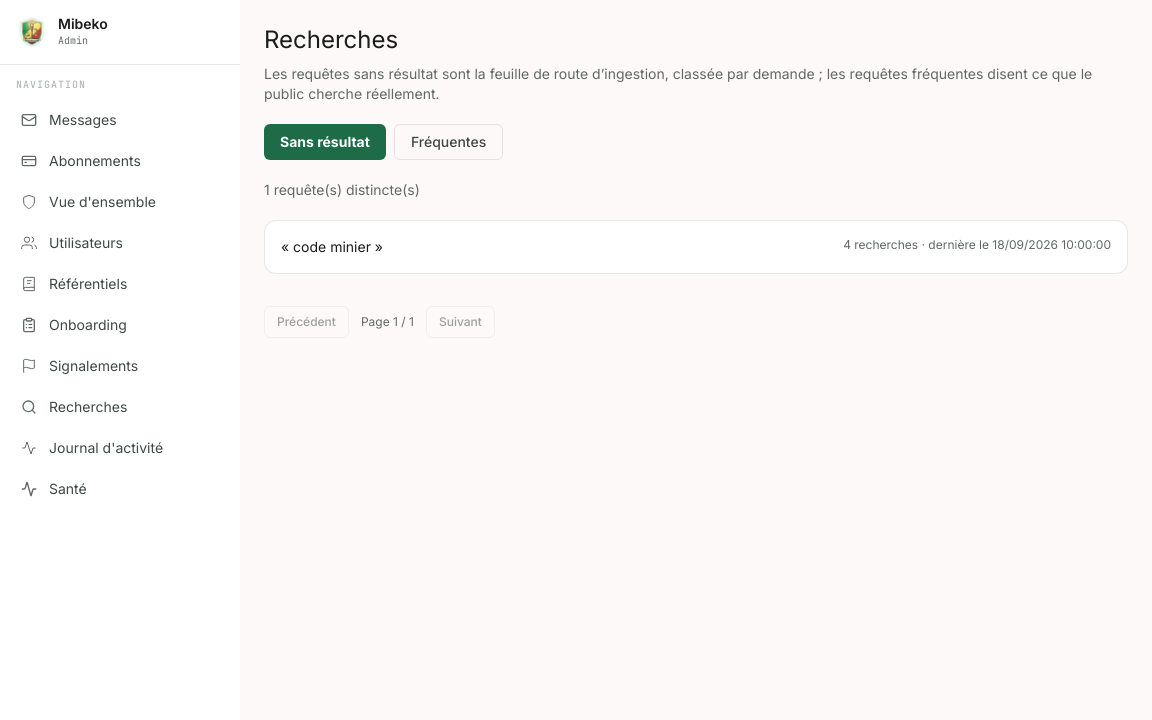
affiche les requêtes sans résultat par défaut, puis les requêtes fréquentes
Expected: the text "« code minier »" is shown, left=281, top=237, right=383, bottom=257
Click the button "Fréquentes". click: (449, 142)
box: left=394, top=124, right=503, bottom=160
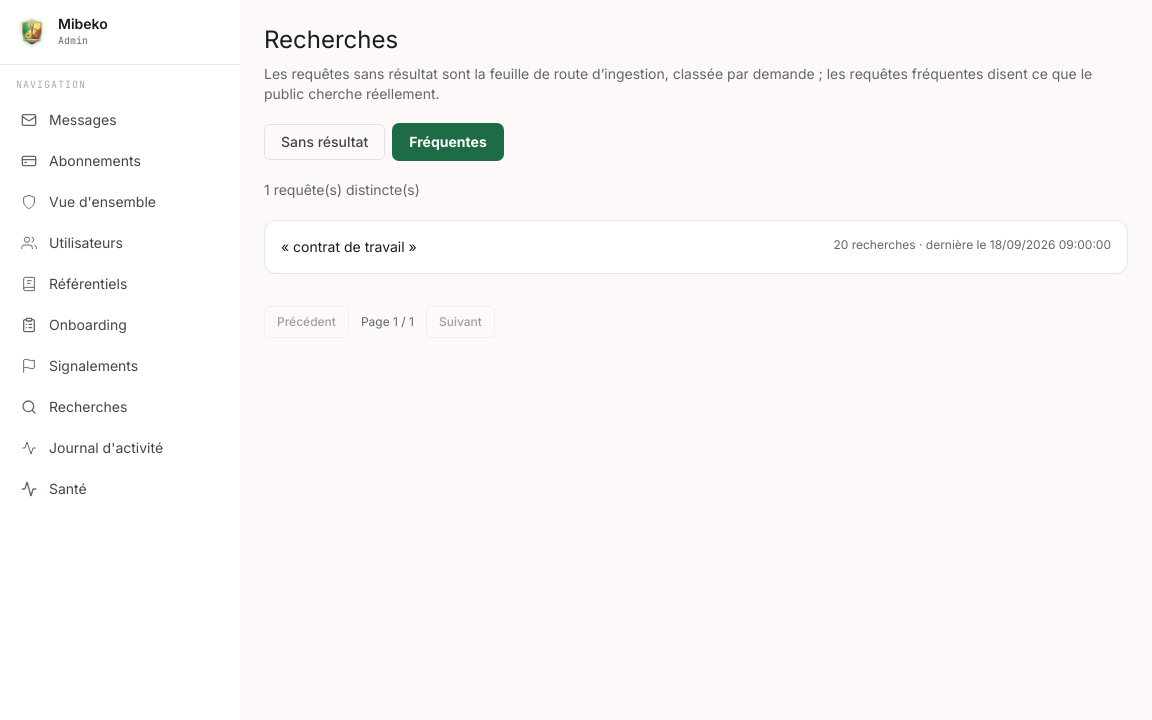
Expected: the text "« contrat de travail »" is shown, left=281, top=237, right=417, bottom=257
Expected: the text "« code minier »" is gone
